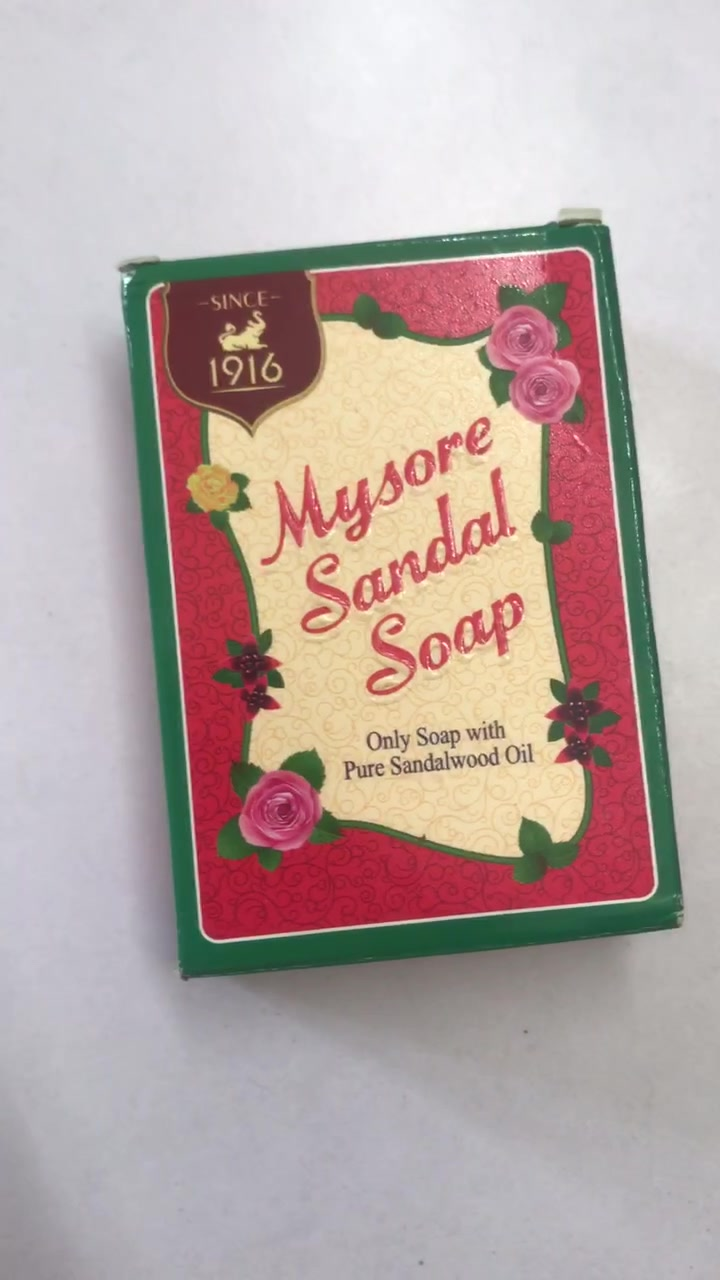mysore sandal soap: (119, 239, 691, 943)
